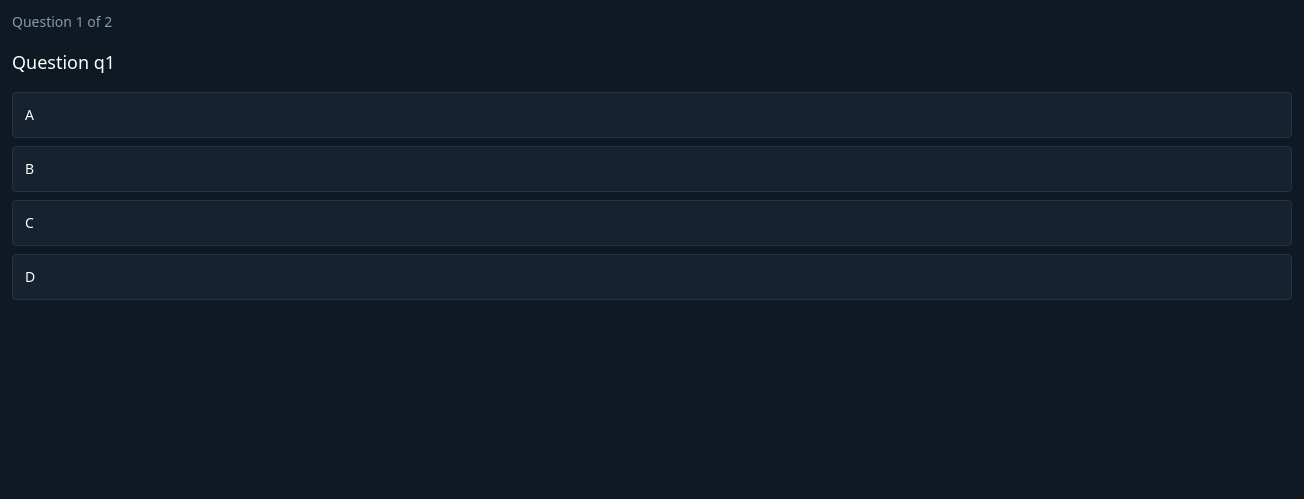
Test: QuizRunner › advances to the next question on Next
Click the button "A": (29, 114) [12, 92, 1292, 138]
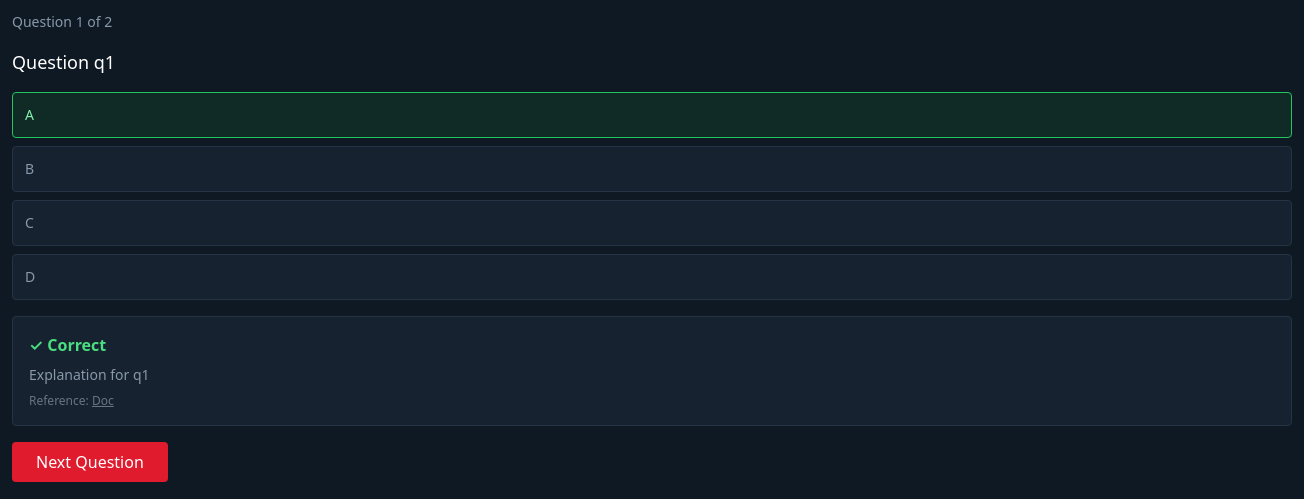
Click the button "Next Question": (90, 462) [12, 442, 168, 482]
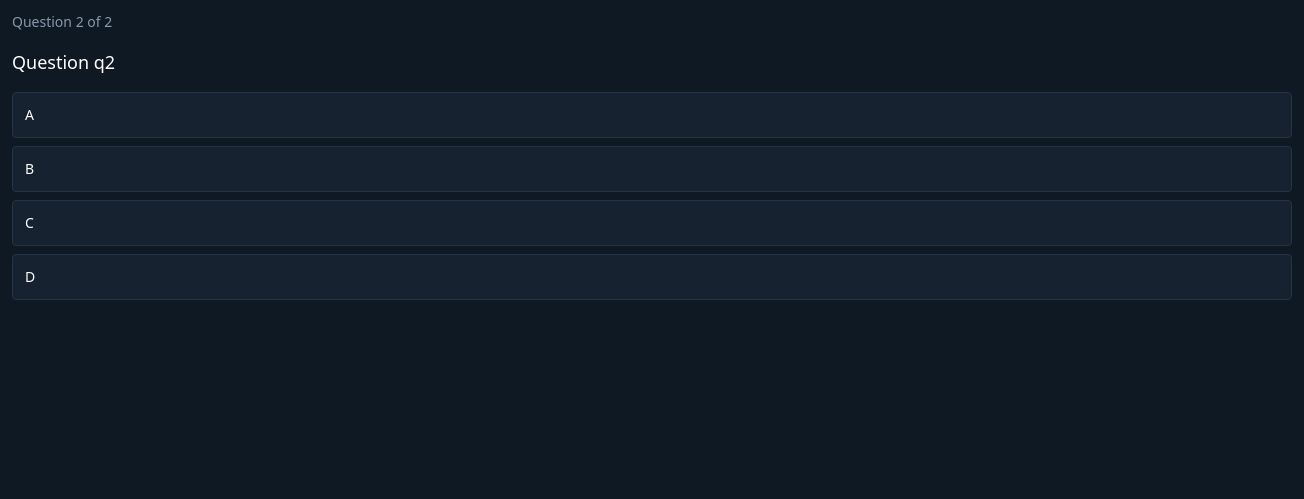
expect the text "Question q2" is shown: met, box [12, 50, 115, 74]
expect the text "Question 2 of 2" is shown: met, box [12, 12, 112, 31]
